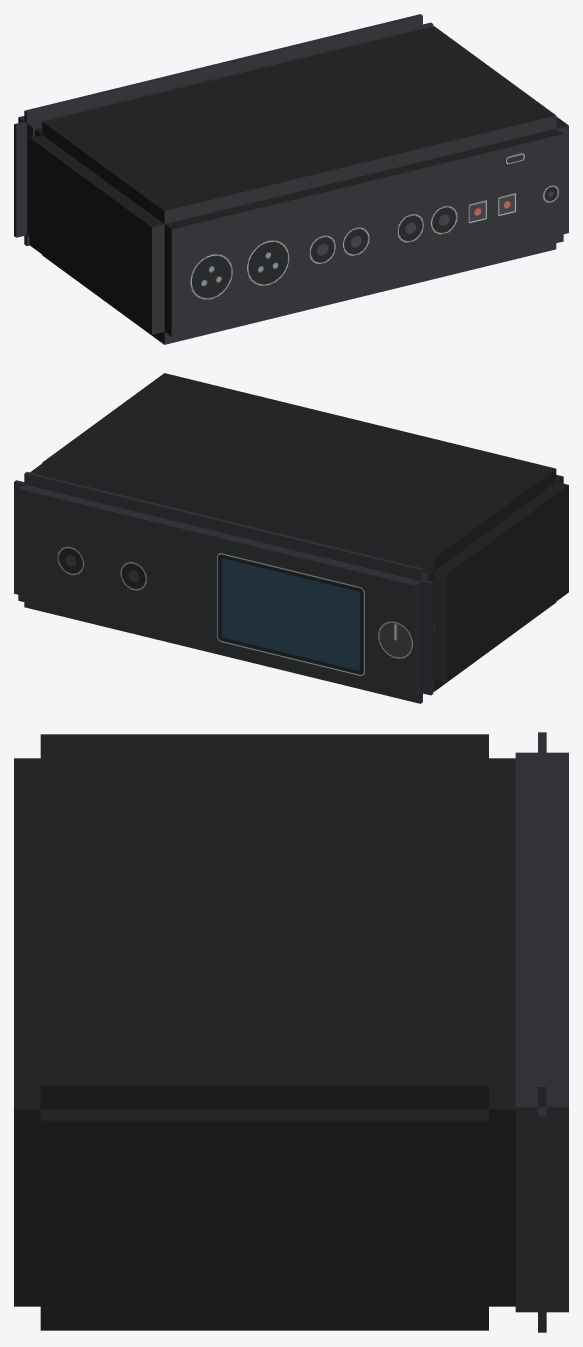
Rendered from apogee-symphony-desktop.glb.
3 renders of one model, top to bottom at view 1: azimuth 30°, elevation 25°; view 2: azimuth 150°, elevation 25°; view 3: azimuth 270°, elevation 25°, orthographic. The views are drawn at different scales.
Parts seen in each view (by area): view 1: apogee-symphony-desktop-body; view 2: apogee-symphony-desktop-body; view 3: apogee-symphony-desktop-body.
Boxes of the visible parts, x1,y1,x2,y2 form: apogee-symphony-desktop-body: [14, 14, 568, 344]; apogee-symphony-desktop-body: [14, 373, 568, 703]; apogee-symphony-desktop-body: [14, 732, 568, 1332].
Bounding box in the file's own units: 0.199 × 0.064 × 0.125.
1 material, 1 textured.
